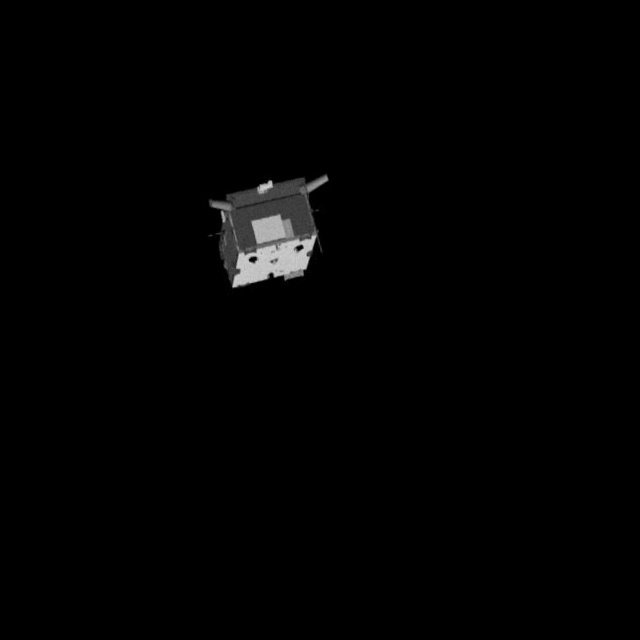satellite: (205, 172, 348, 290)
